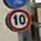limite 10: (6, 8, 30, 31)
